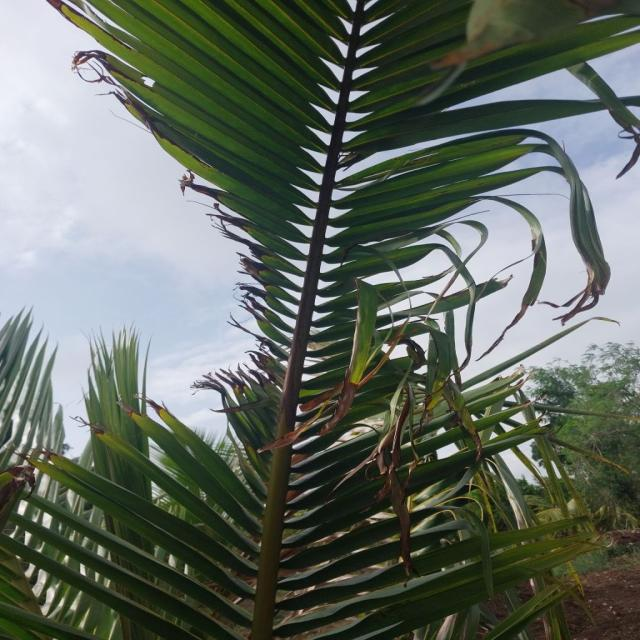leaf rot: (0, 53, 640, 630)
